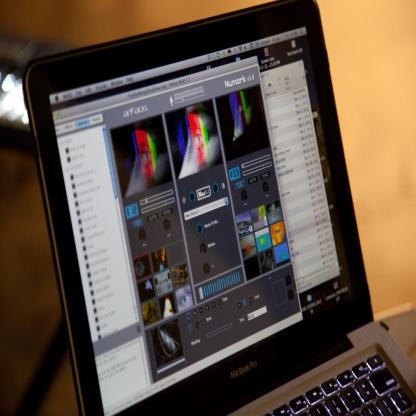board: (22, 0, 416, 416)
